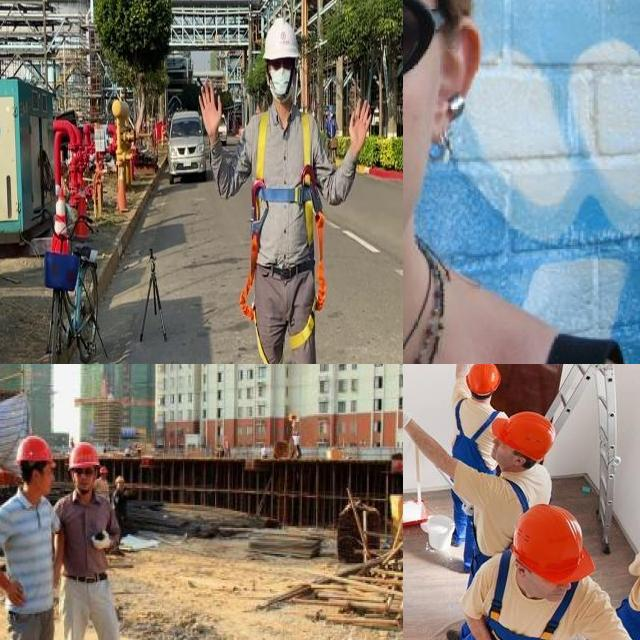Harness: (240, 111, 327, 364)
face_nomask: (72, 465, 96, 492), (38, 463, 58, 492)
glasses: (71, 466, 95, 478)
hand_glove: (403, 397, 414, 434)
hand_noglove: (3, 575, 30, 610)
head_helmet: (507, 498, 597, 584), (490, 405, 557, 466), (13, 433, 57, 466), (462, 364, 502, 400), (65, 440, 103, 469)
person: (403, 0, 640, 364), (449, 504, 605, 640), (453, 412, 566, 583), (48, 439, 142, 640), (447, 364, 508, 571), (0, 432, 60, 640)
